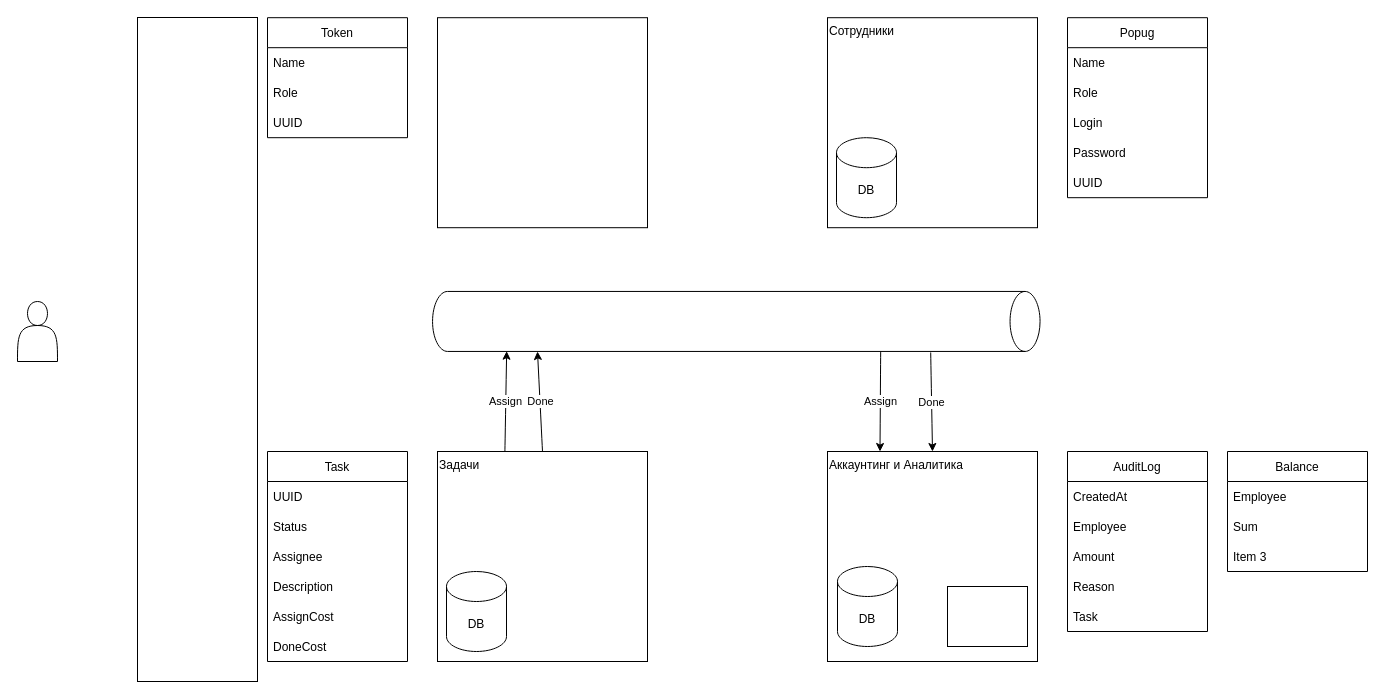
Image size: 1385x699. Some labels were removed from this diagram. The centre of each missing label's shape, as x and y in pixels:
"Cron Job" goes at pixel 987 616.
"Event bus" goes at pixel 736 321.
"Gateway" goes at pixel 197 349.
"Авторизация" goes at pixel 542 122.
